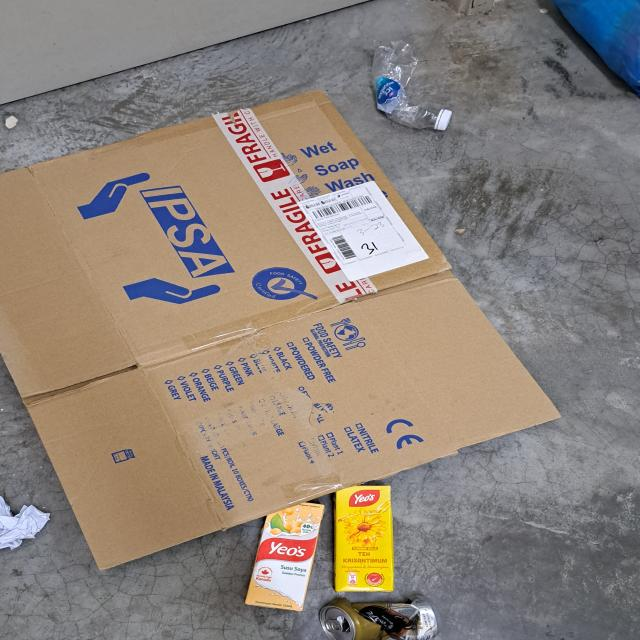can: (322, 601, 438, 640)
cardboard: (0, 93, 563, 568)
drink carton: (248, 499, 324, 609), (338, 486, 395, 594)
paper: (0, 490, 51, 553)
plastic bag: (548, 0, 640, 98)
plastic bottle: (370, 40, 456, 132)
plastic bottle cap: (430, 107, 454, 132)
pop tab: (324, 615, 348, 636)
